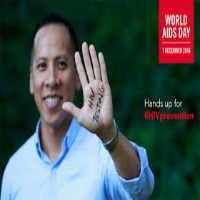ring: (90, 43, 103, 88)
